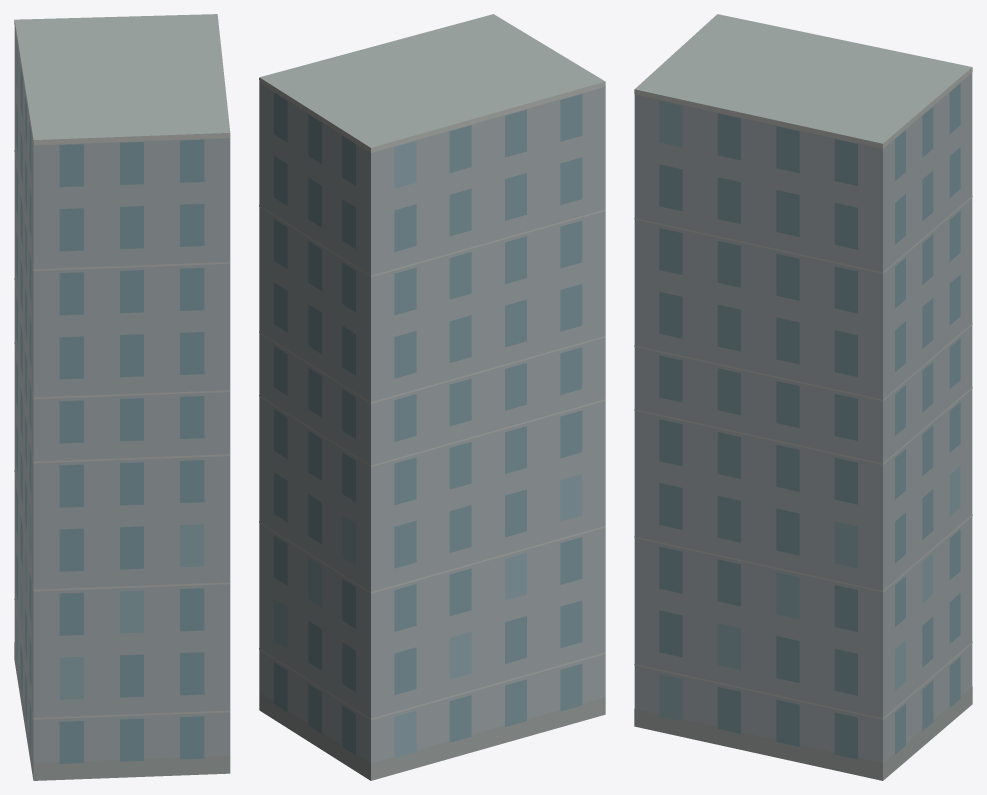
The model's file is survey-upis-33001317.glb.
3 renders of one model, left to right at view 1: azimuth 30°, elevation 25°; view 2: azimuth 150°, elevation 25°; view 3: azimuth 270°, elevation 25°, orthographic.
Visible parts, largest first — view 1: survey-upis-33001317.tmp; view 2: survey-upis-33001317.tmp; view 3: survey-upis-33001317.tmp.
Boxes of the visible parts, x1=… form: survey-upis-33001317.tmp: x1=14, y1=14, x2=230, y2=780; survey-upis-33001317.tmp: x1=259, y1=14, x2=605, y2=780; survey-upis-33001317.tmp: x1=634, y1=14, x2=972, y2=780.
Bounding box in the file's own units: 13.23 × 30.25 × 14.57.
